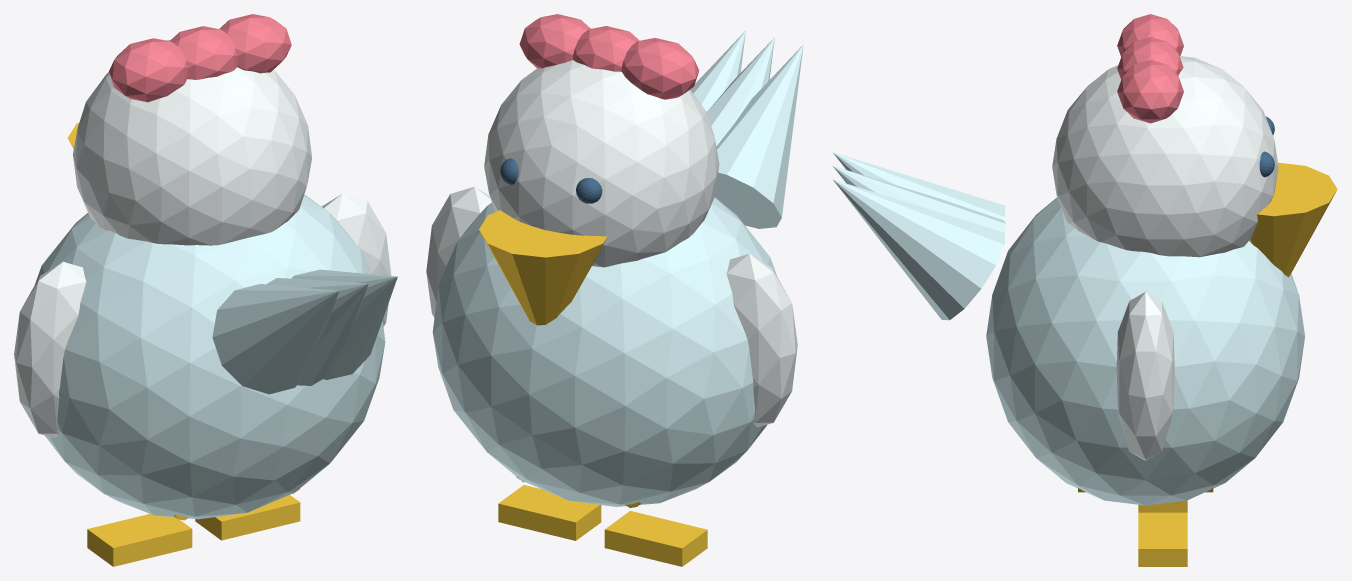
Rendered from treasure_chicken.glb.
3 views of the same model, side by side, from view 1: azimuth 30°, elevation 25°; view 2: azimuth 150°, elevation 25°; view 3: azimuth 270°, elevation 25° (orthographic). The views are drawn at different scales.
Visible parts, largest first — view 1: Body, Head, Tail0, WingL, Foot-0.24, Comb0, Tail2, Tail1, Comb2, WingR, Comb1, Foot0.24; view 2: Body, Head, Tail0, Beak, WingL, Foot-0.24, Foot0.24, Comb0, Tail1, WingR, Comb2, Comb1 (+2 smaller); view 3: Body, Head, Tail2, WingR, Beak, Comb2, Foot0.24, Tail0, Tail1, Comb0, Comb1.
Boxes of the visible parts, <box> form: Body: <box>35,194,385,519</box>; Head: <box>73,40,312,245</box>; Tail0: <box>212,284,339,394</box>; WingL: <box>14,261,86,438</box>; Foot-0.24: <box>87,514,192,566</box>; Comb0: <box>109,38,187,102</box>; Tail2: <box>291,269,397,379</box>; Tail1: <box>266,278,368,385</box>; Comb2: <box>219,14,291,73</box>; WingR: <box>321,193,391,326</box>; Comb1: <box>170,26,237,79</box>; Foot0.24: <box>195,494,300,540</box>; Body: <box>432,197,777,506</box>; Head: <box>484,60,719,267</box>; Tail0: <box>716,44,803,228</box>; Beak: <box>479,210,607,325</box>; WingL: <box>726,253,797,427</box>; Foot-0.24: <box>604,511,707,566</box>; Foot0.24: <box>498,485,601,540</box>; Comb0: <box>621,38,699,99</box>; Tail1: <box>707,37,774,221</box>; WingR: <box>426,186,491,317</box>; Comb2: <box>519,14,590,68</box>; Comb1: <box>573,26,639,71</box>; Body: <box>986,197,1304,505</box>; Head: <box>1052,56,1278,257</box>; Tail2: <box>833,179,1004,320</box>; WingR: <box>1116,291,1174,460</box>; Beak: <box>1249,162,1337,277</box>; Comb2: <box>1117,59,1183,123</box>; Foot0.24: <box>1138,512,1187,566</box>; Tail0: <box>833,152,1004,220</box>; Tail1: <box>832,165,1005,232</box>; Comb0: <box>1117,14,1183,56</box>; Comb1: <box>1117,37,1183,79</box>.
Bounding box in the file's own units: 1.66 × 2.16 × 2.05.
